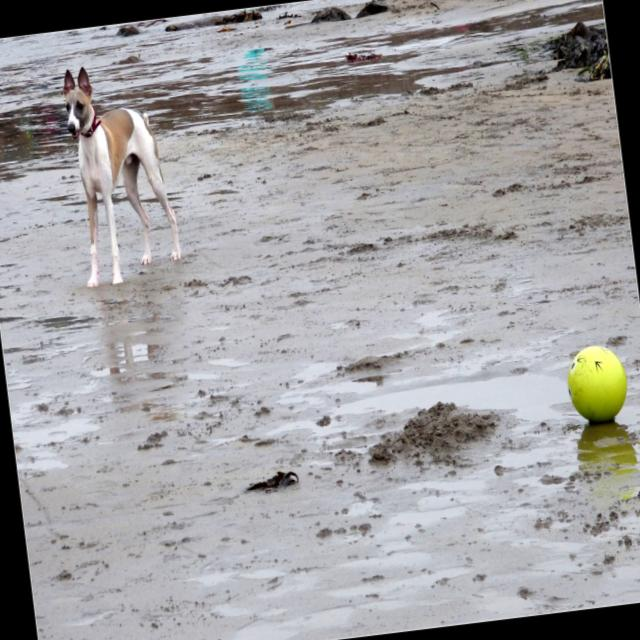Tennis Ball: (564, 338, 632, 424)
